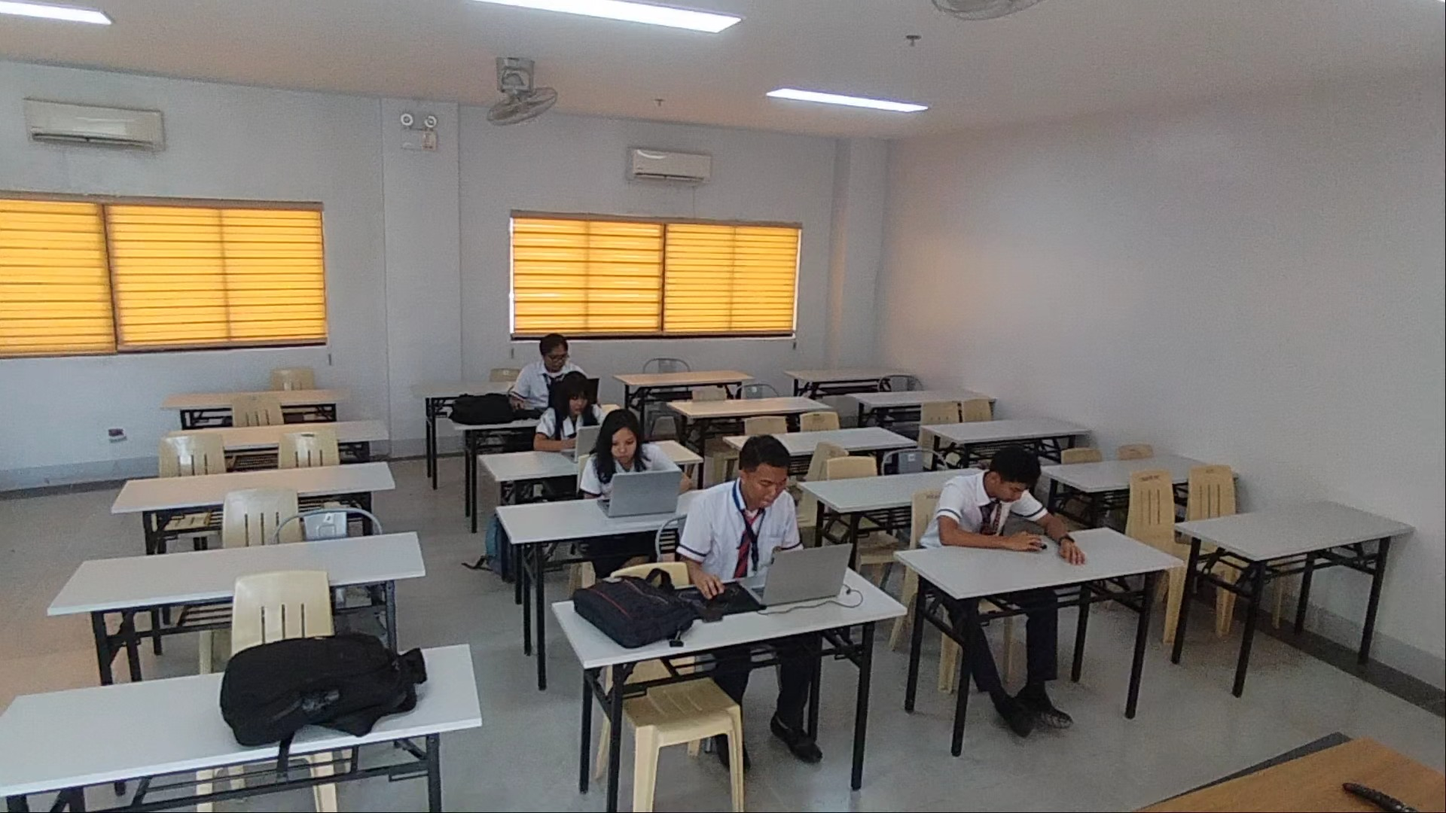with-student: (553, 430, 907, 713), (889, 437, 1187, 646), (495, 405, 737, 551), (478, 368, 704, 485), (450, 329, 640, 437)
